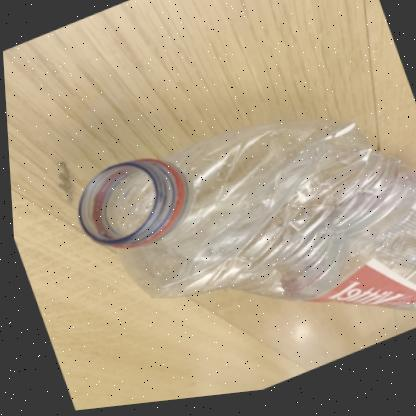Plastic: (76, 127, 416, 319)
